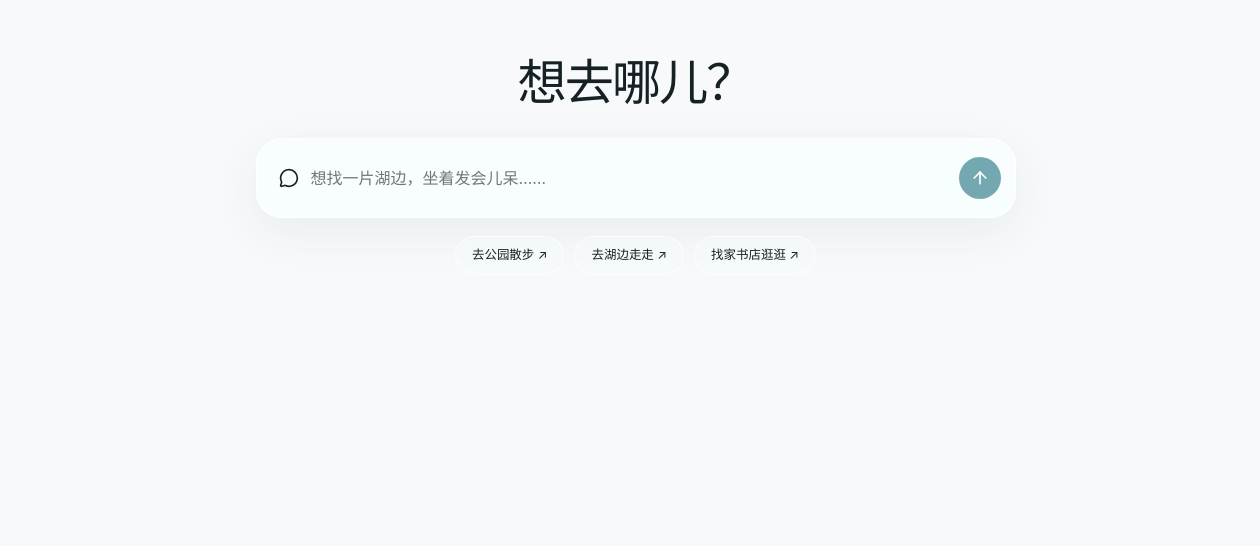
Test: open-ended discovery › clears the stale restore failure after a fresh query returns usable results
Type "苏州看看书店" into the text box named "继续补充条件" at (628, 178), box [310,156,946,200]
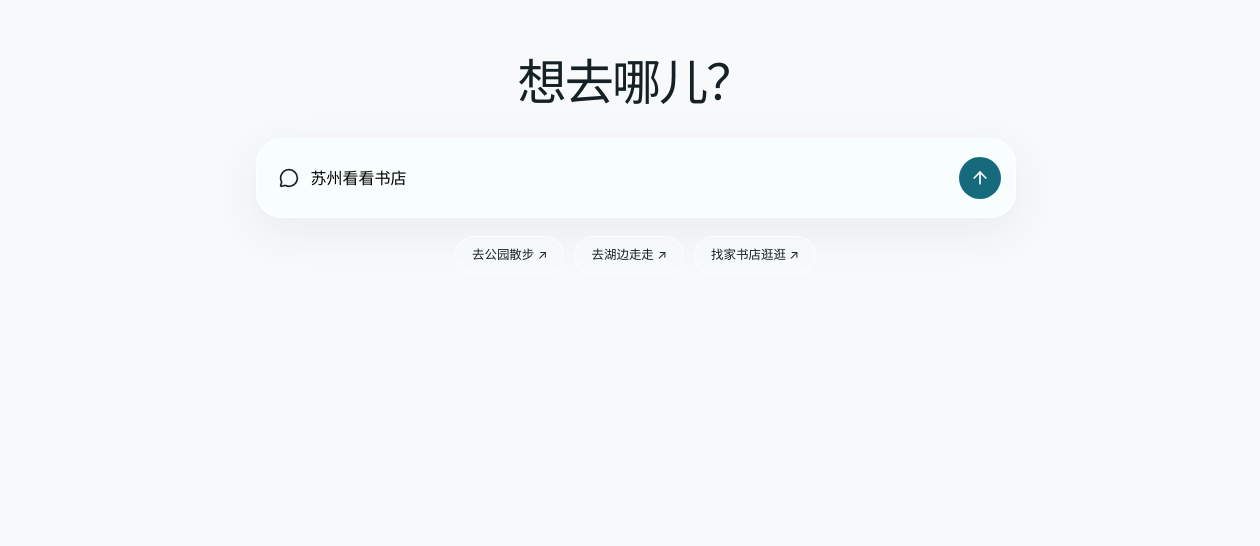
Press Enter
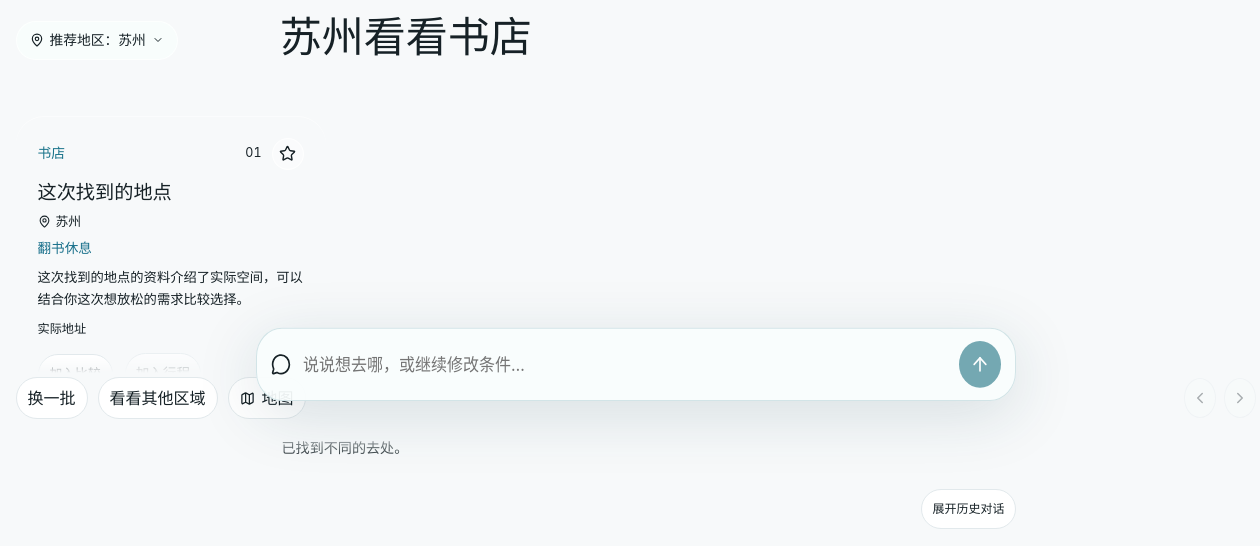
Check: the heading "这次找到的地点" is shown, box [38,180,172,204]
